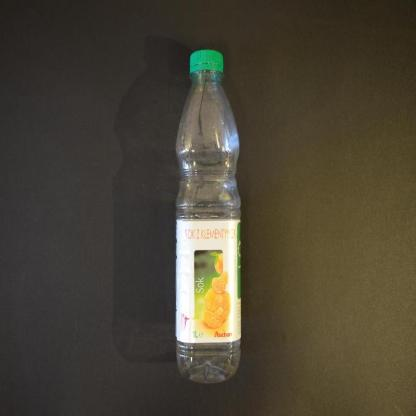Plastic Bottle: (176, 49, 241, 384)
